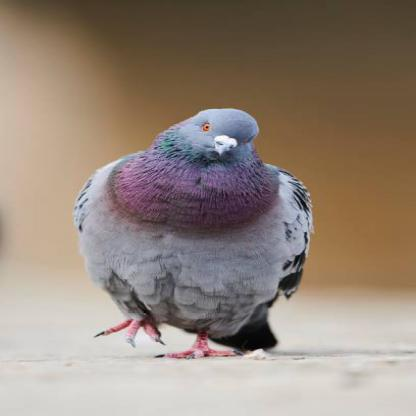Rock Pigeon: (71, 109, 323, 355)
